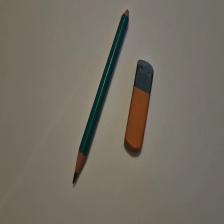eraser: (125, 60, 155, 152)
pencil: (73, 10, 130, 185)
